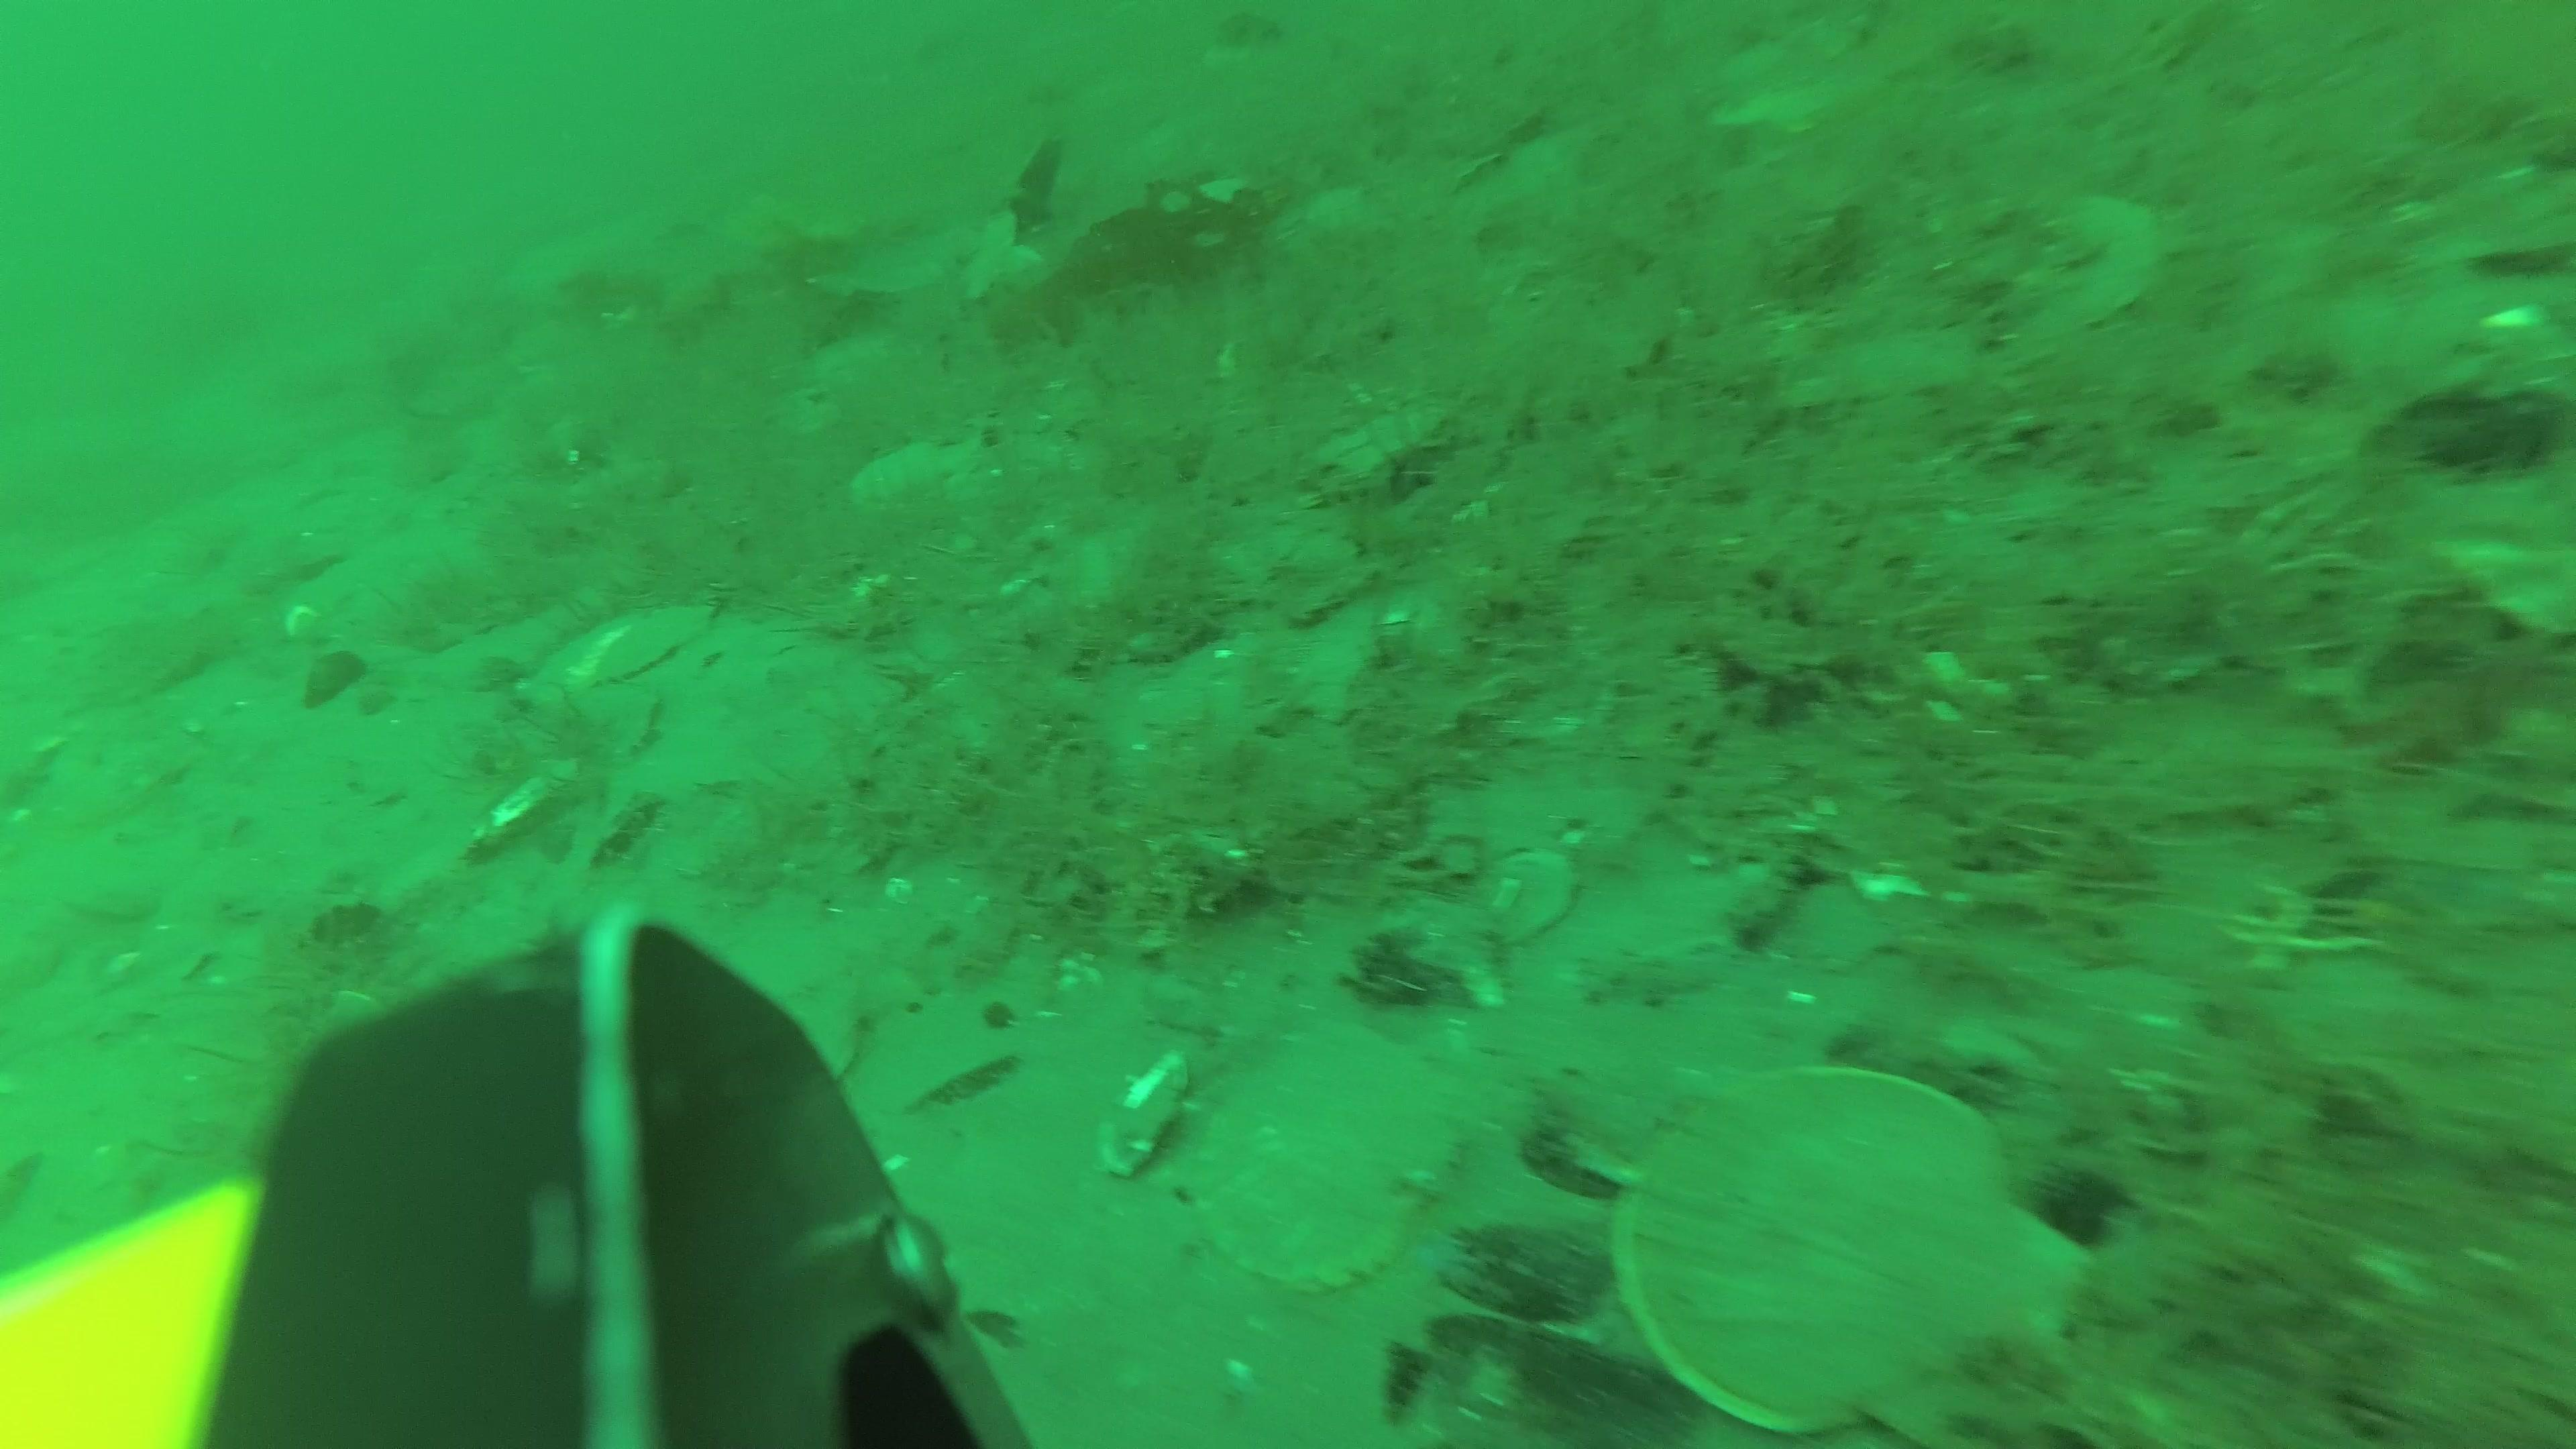scallop: (1626, 1065, 2089, 1449), (1200, 1030, 1468, 1293), (715, 929, 916, 1099), (1996, 198, 2155, 349), (531, 596, 715, 699), (847, 441, 989, 511)
